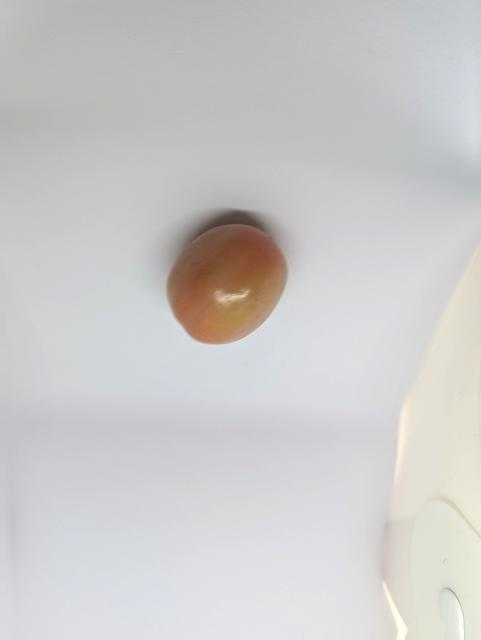turning: (161, 209, 293, 355)
